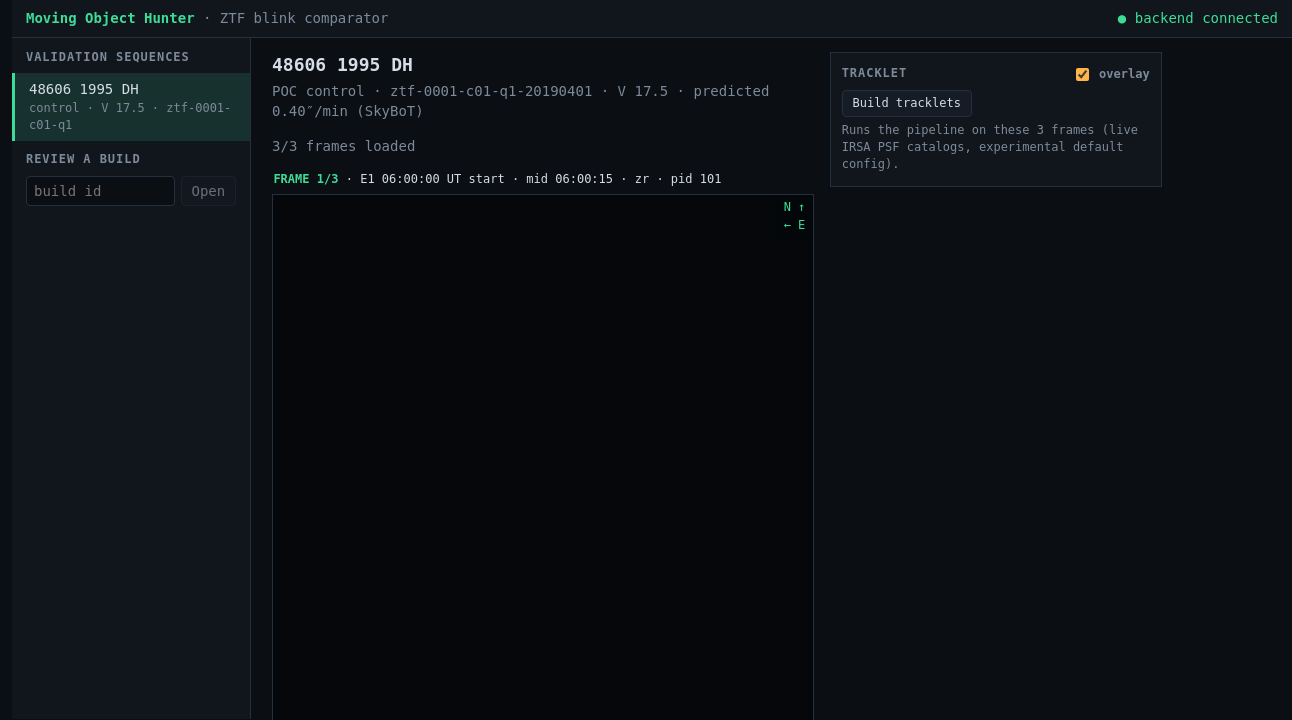
Test: opens the ranked review from a finished build and returns to the sequences
Expected: the text with test id "frames-loaded" shows "3/3", [272,136,415,156]
Note: The preset blink comparator still works as before.
Click the button with test id "build-tracklets" at (907, 104), box [842,90,972,117]
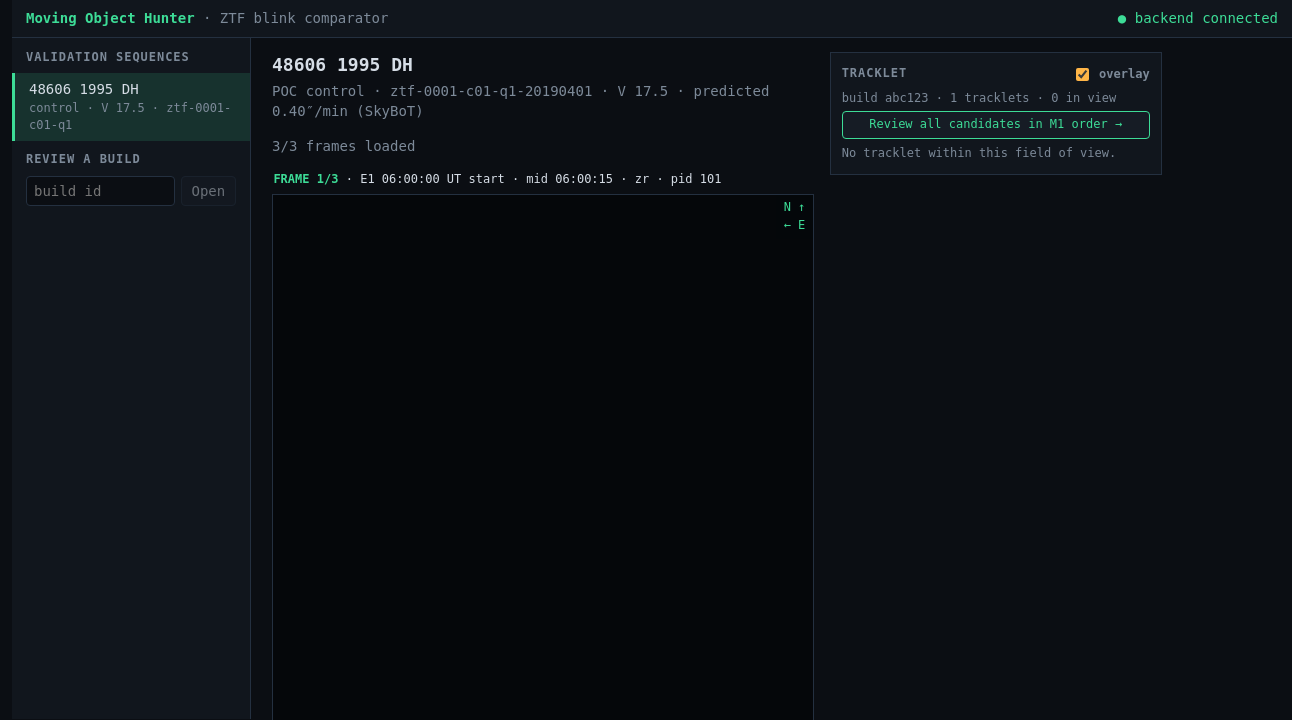
Click the button with test id "open-review" at (996, 125), box [842,111,1150,139]
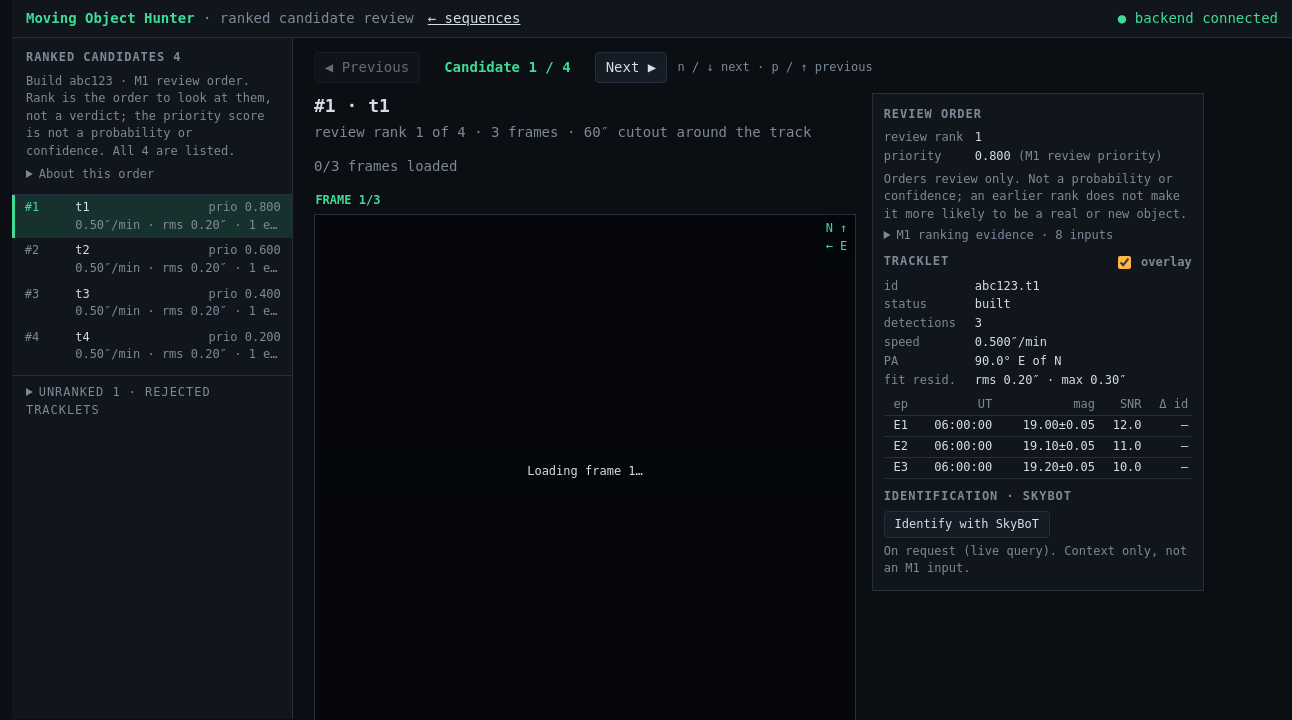
Now the text with test id "review-position" reads "Candidate 1 / 4", box [444,59,571,75]
Click the link with test id "leave-review" at (474, 18), box [428,10,520,26]
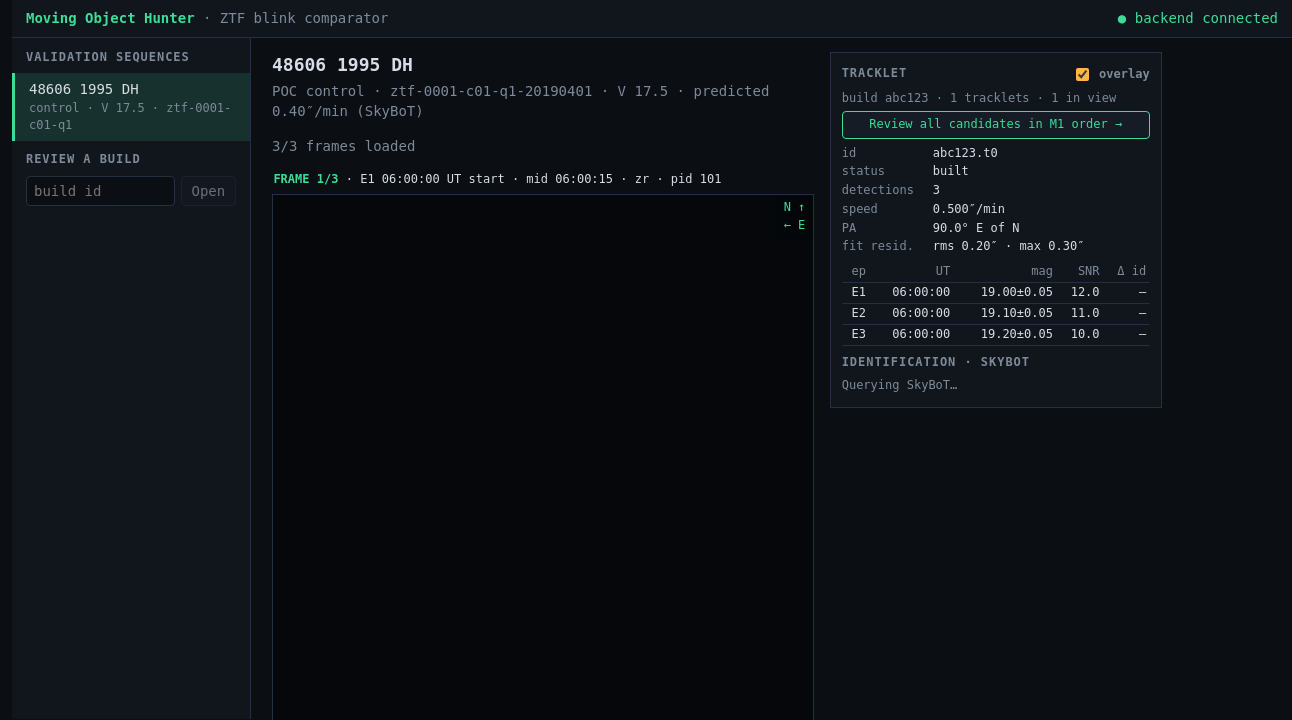
Now the element with test id "tracklet-panel" is shown, box [830,52,1162,408]
